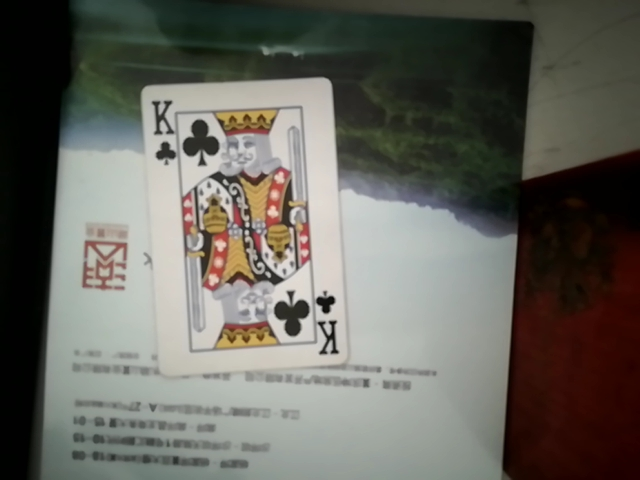mh k: (146, 72, 348, 369)
